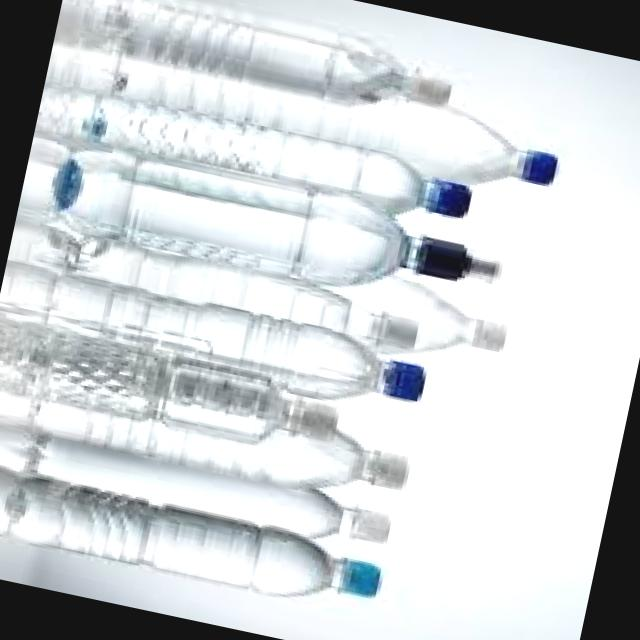plastic: (0, 0, 533, 639)
